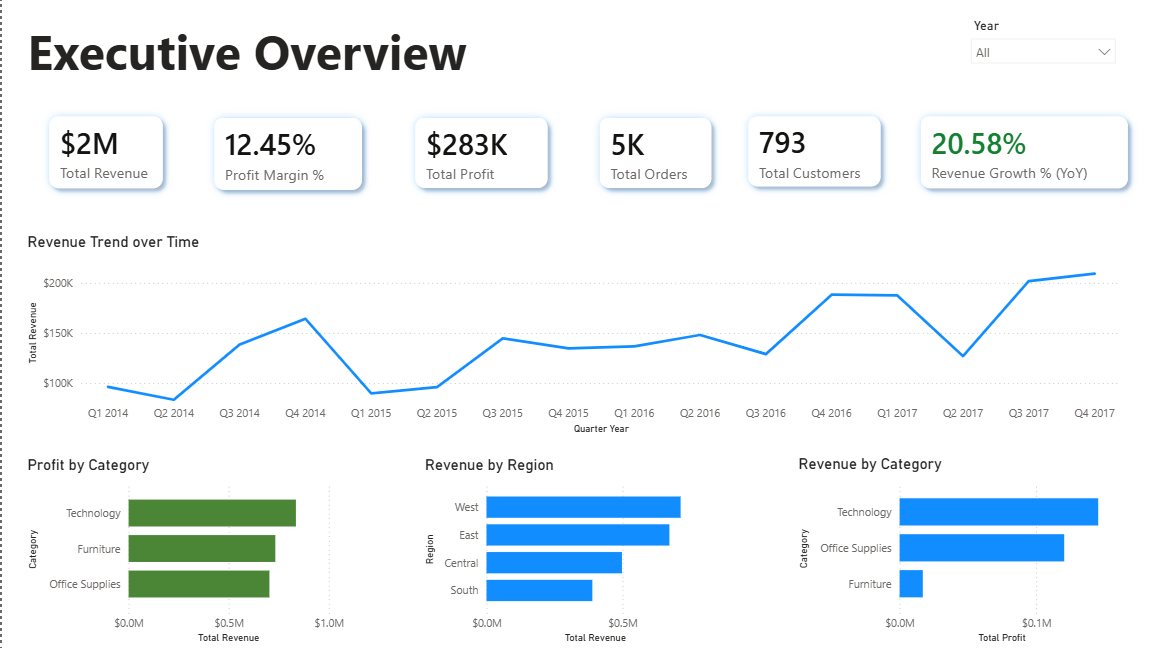

The page's visual inventory and layout, read from the dashboard file:
{"tool":"powerbi","page":{"name":"Executive Overview","canvas":[1280,720],"ordinal":0},"visuals":[{"type":"cardVisual","fields":{"Data":["KPI Measures.Total Revenue"]},"box":[22.8,100,184.2,138.6],"z":0},{"type":"cardVisual","fields":{"Data":["KPI Measures.Total Profit"]},"box":[429.8,101.8,205.3,136.8],"z":1000},{"type":"cardVisual","fields":{"Data":["KPI Measures.Profit Margin %"]},"box":[207,101.8,222.8,138.6],"z":2000},{"type":"cardVisual","fields":{"Data":["KPI Measures.Total Orders"]},"box":[635.1,101.8,182.5,136.8],"z":3000},{"type":"cardVisual","fields":{"Data":["KPI Measures.Total Customers"]},"box":[817.5,100,205.3,136.8],"z":4000},{"type":"cardVisual","fields":{"Data":["KPI Measures.Revenue Growth %"]},"box":[1008.8,100,238.6,138.6],"z":5000},{"type":"lineChart","title":"Revenue Trend over Time","fields":{"Category":["DimDate.Quarter Year"],"Y":["KPI Measures.Total Revenue"]},"box":[22.8,257.9,1224.6,228.1],"z":6000},{"type":"barChart","title":"Revenue by Region","fields":{"Category":["FactSales.Region"],"Y":["KPI Measures.Total Revenue"]},"box":[464.9,507,336.8,212.3],"z":6001},{"type":"barChart","title":"Profit by Category","fields":{"Category":["DimProduct.Category"],"Y":["KPI Measures.Total Revenue"]},"box":[22.8,507,361.4,212.3],"z":6002},{"type":"barChart","title":"Revenue by Category","fields":{"Category":["DimProduct.Category"],"Y":["KPI Measures.Total Profit"]},"box":[880.7,505.3,366.7,214],"z":6003},{"type":"slicer","fields":{"Values":["DimDate.Year"]},"box":[1066.7,15.8,180.7,68.4],"z":6004},{"type":"textbox","box":[23.3,15,678.3,85],"z":6005}]}

Visuals, with their boxes in screenshot pixels (x1, y1, x2, y2), scaled from the page's 1280x720 canvas onto the 1152x648 screenshot:
cardVisual - KPI Measures.Total Revenue: (x1=21, y1=90, x2=186, y2=215)
cardVisual - KPI Measures.Total Profit: (x1=387, y1=92, x2=572, y2=215)
cardVisual - KPI Measures.Profit Margin %: (x1=186, y1=92, x2=387, y2=216)
cardVisual - KPI Measures.Total Orders: (x1=572, y1=92, x2=736, y2=215)
cardVisual - KPI Measures.Total Customers: (x1=736, y1=90, x2=921, y2=213)
cardVisual - KPI Measures.Revenue Growth %: (x1=908, y1=90, x2=1123, y2=215)
"Revenue Trend over Time" lineChart: (x1=21, y1=232, x2=1123, y2=437)
"Revenue by Region" barChart: (x1=418, y1=456, x2=722, y2=647)
"Profit by Category" barChart: (x1=21, y1=456, x2=346, y2=647)
"Revenue by Category" barChart: (x1=793, y1=455, x2=1123, y2=647)
slicer - DimDate.Year: (x1=960, y1=14, x2=1123, y2=76)
textbox: (x1=21, y1=14, x2=631, y2=90)
